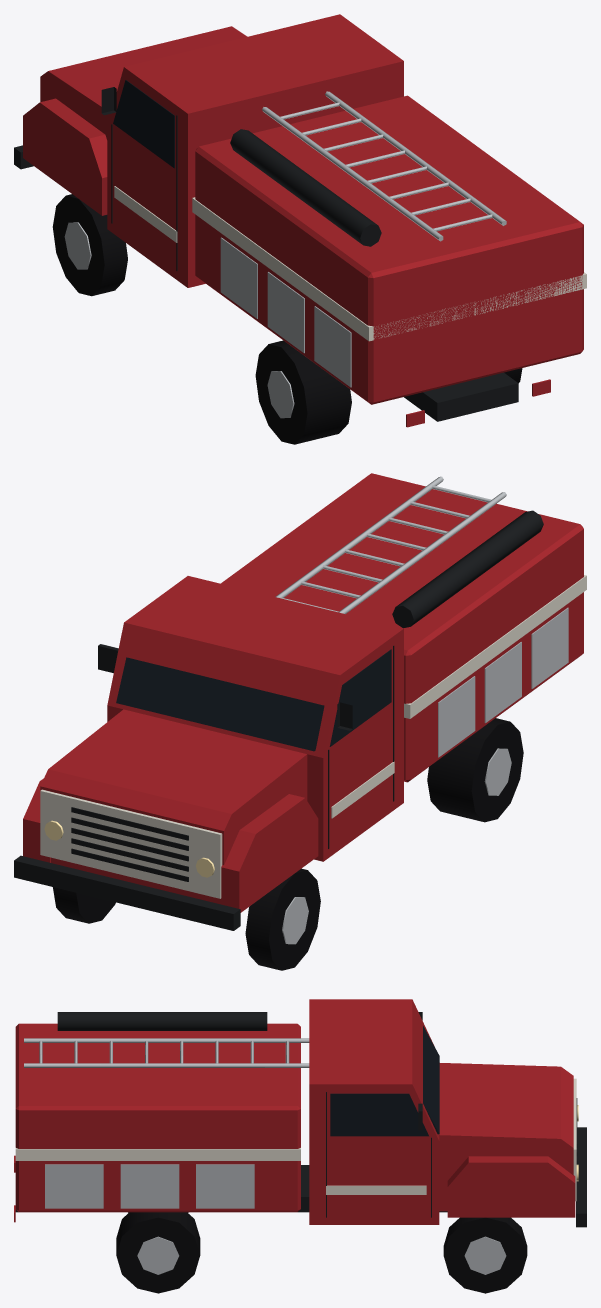
Rendered from car-fire.glb.
3 renders of one model, top to bottom at view 1: azimuth 30°, elevation 25°; view 2: azimuth 150°, elevation 25°; view 3: azimuth 270°, elevation 25°, orthographic. The views are drawn at different scales.
Parts seen in each view (by area): view 1: 00_#a3262c_r320, 06_#b8bcc0_noshadow_r110, 05_#141416_r320, 02_#1e2022_noshadow_r110, 03_#e0dcd0_r320, 01_#1a2026_noshadow_r320; view 2: 00_#a3262c_r320, 02_#1e2022_noshadow_r110, 06_#b8bcc0_noshadow_r110, 03_#e0dcd0_r320, 01_#1a2026_noshadow_r320, 05_#141416_r320; view 3: 00_#a3262c_r320, 06_#b8bcc0_noshadow_r110, 05_#141416_r320, 02_#1e2022_noshadow_r110, 01_#1a2026_noshadow_r320, 03_#e0dcd0_r320.
Boxes of the visible parts, x1,y1,x2,y2 form: 00_#a3262c_r320: (23,14,583,427); 06_#b8bcc0_noshadow_r110: (64,91,506,418); 05_#141416_r320: (52,194,522,444); 02_#1e2022_noshadow_r110: (14,87,518,421); 03_#e0dcd0_r320: (114,186,586,341); 01_#1a2026_noshadow_r320: (113,80,174,168); 00_#a3262c_r320: (23,473,583,912); 02_#1e2022_noshadow_r110: (14,510,543,930); 06_#b8bcc0_noshadow_r110: (275,476,568,944); 03_#e0dcd0_r320: (40,575,586,898); 01_#1a2026_noshadow_r320: (116,649,391,751); 05_#141416_r320: (53,718,523,970); 00_#a3262c_r320: (14,999,575,1224); 06_#b8bcc0_noshadow_r110: (24,1038,506,1274); 05_#141416_r320: (116,1212,527,1293); 02_#1e2022_noshadow_r110: (15,1012,586,1227); 01_#1a2026_noshadow_r320: (330,1026,439,1136); 03_#e0dcd0_r320: (15,1078,576,1201).
Bounding box in the file's own units: 2.8 × 2.75 × 6.83.
